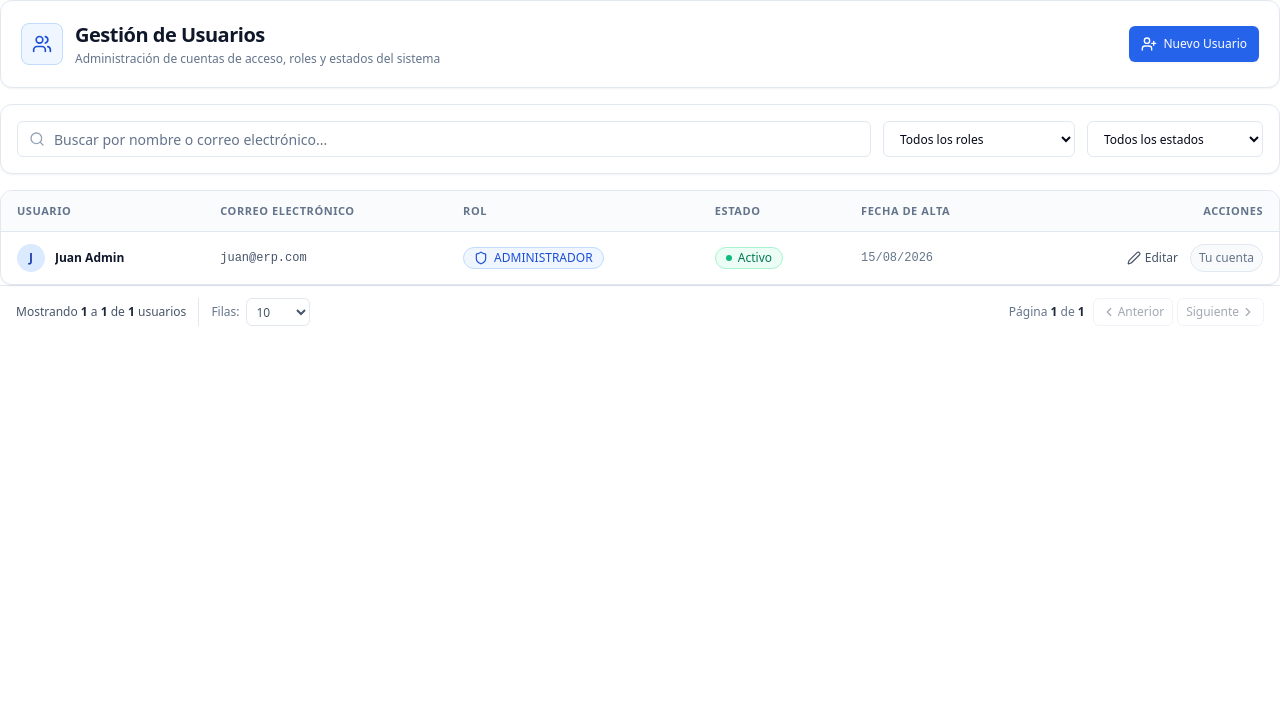
Test: UsersPage administrative user management › User Creation Flow › displays inline conflict error banner on 409 duplicate email without closing modal
Step 1. Click the button "Nuevo Usuario" → (1194, 44), box [1130, 26, 1259, 62]
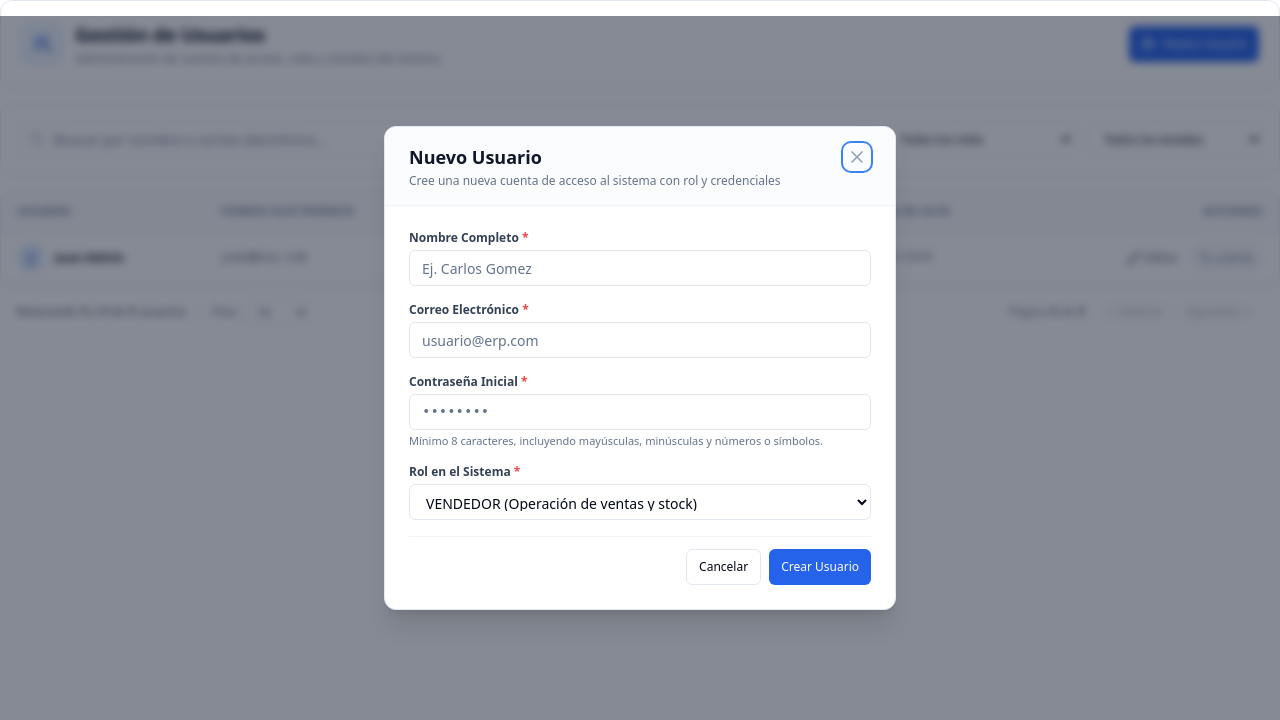
Step 2. Type "Duplicado" into the field labelled "Nombre Completo *" → (640, 268), box [409, 250, 871, 286]
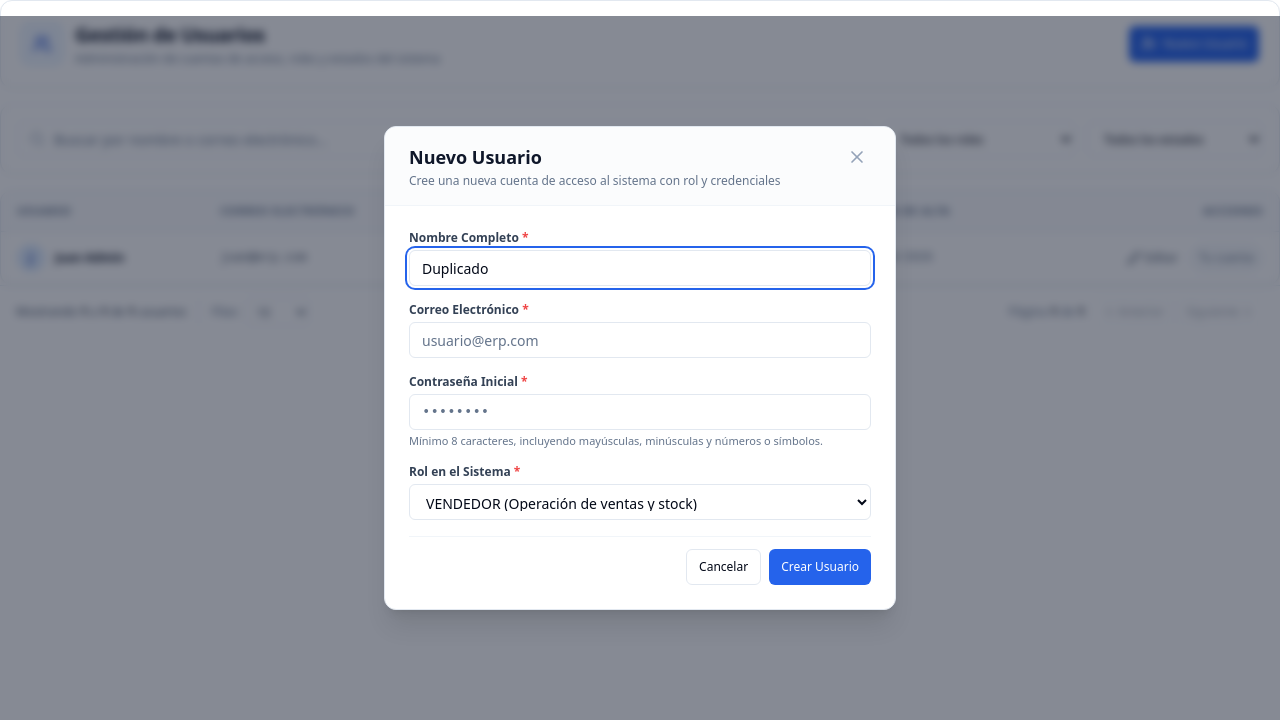
Step 3. Type "juan@erp.com" into the field labelled "Correo Electrónico *" → (640, 340), box [409, 322, 871, 358]
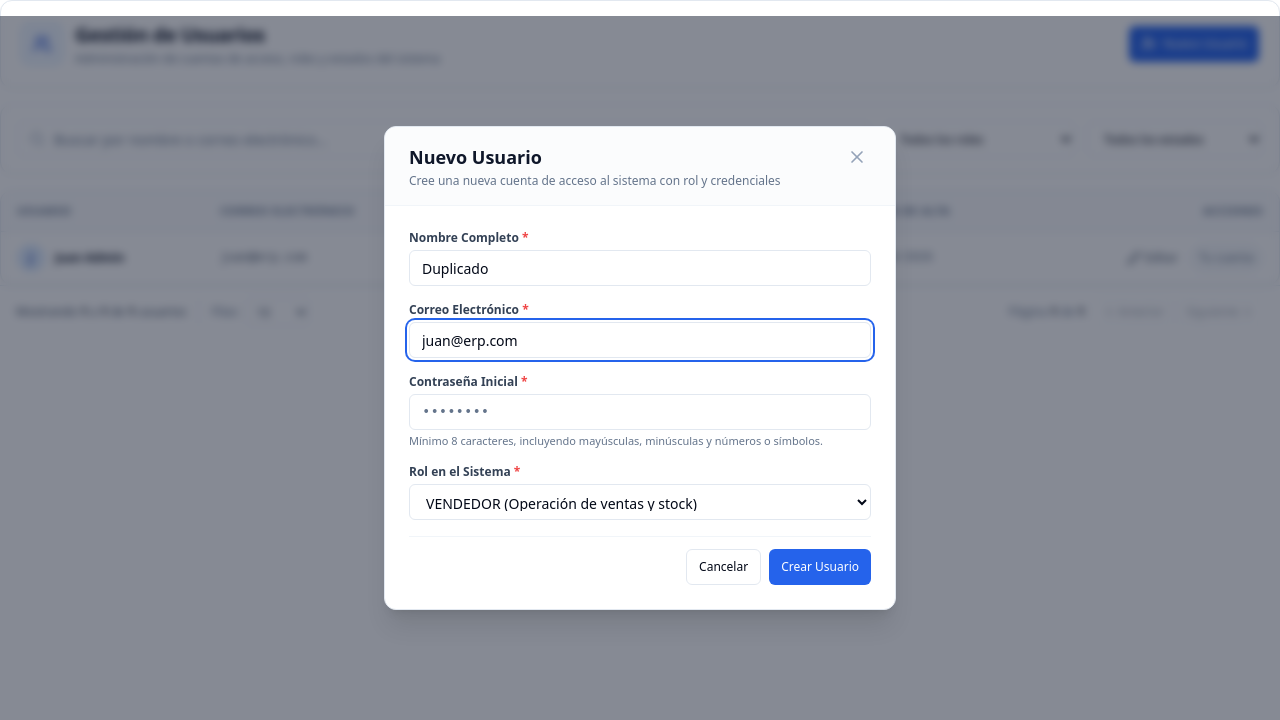
Step 4. Type "Password123!" into the password field labelled "Contraseña Inicial *" → (640, 412), box [409, 394, 871, 430]
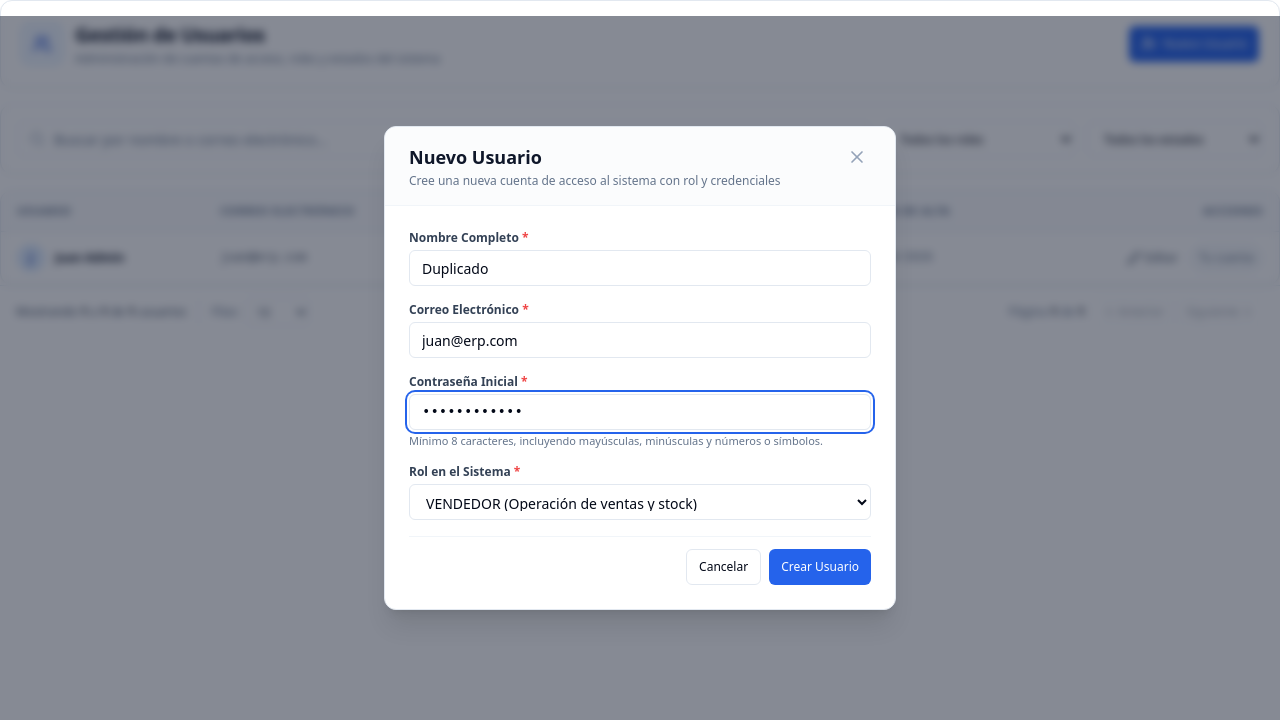
Step 5. Click the button "Crear Usuario" → (820, 567), box [769, 549, 871, 585]
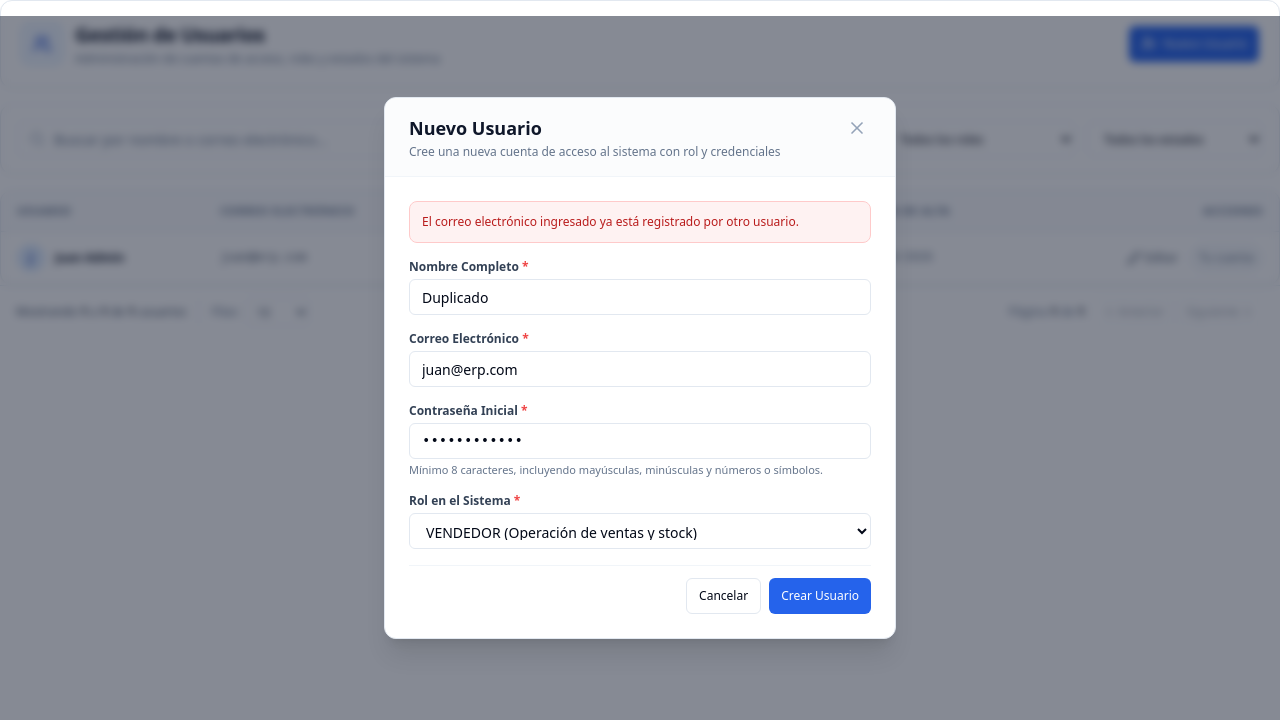
Now the dialog is shown, box [384, 97, 896, 639]
Now the text "El correo electrónico ingresado ya está registrado por otro usuario." is shown, box [409, 201, 871, 243]
